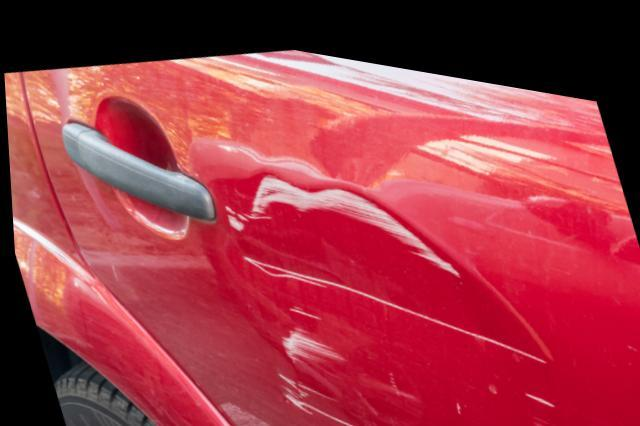dent: (200, 161, 570, 426)
scratch: (273, 352, 384, 426)
